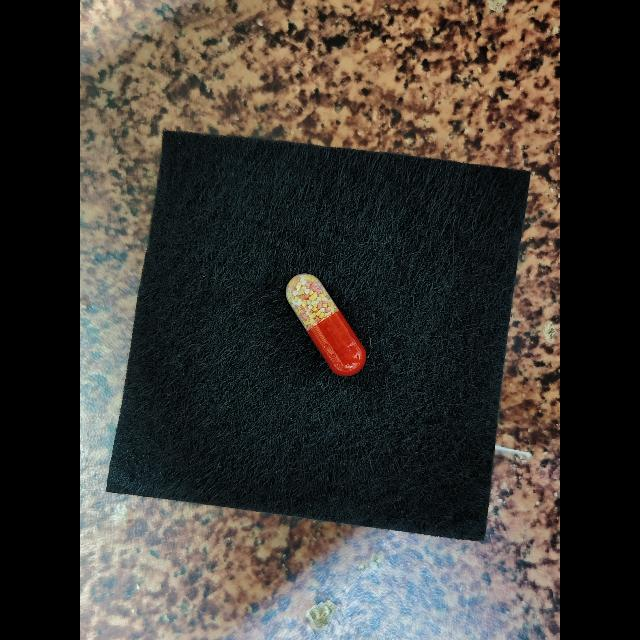Intact Capsule: (286, 273, 367, 376)
